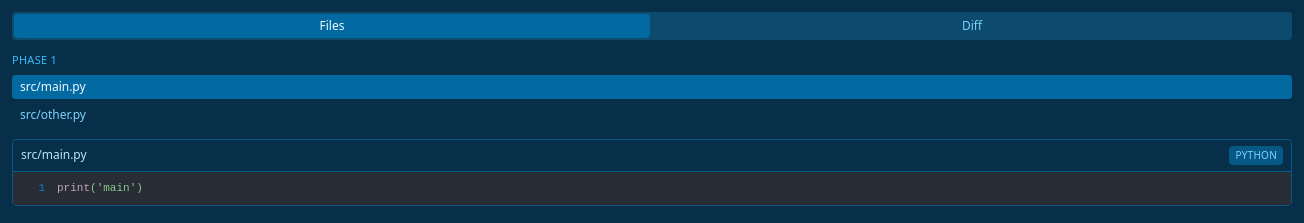
Test: ChangesPanel — Files mode (A1) › selecting a file shows its content and language badge
This screenshot has width=1304, height=223.
Click the button "src/other.py" at (53, 114), box [12,102,1292,126]
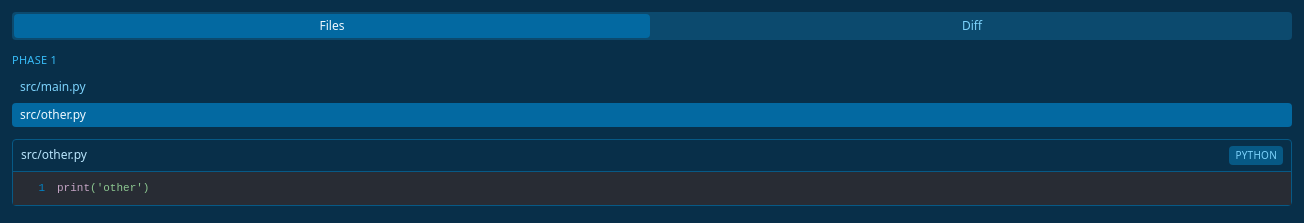
Expected: the text "python" is shown, [1229,146,1283,164]
Expected: the text "'other'" is shown, [97,182,143,194]
